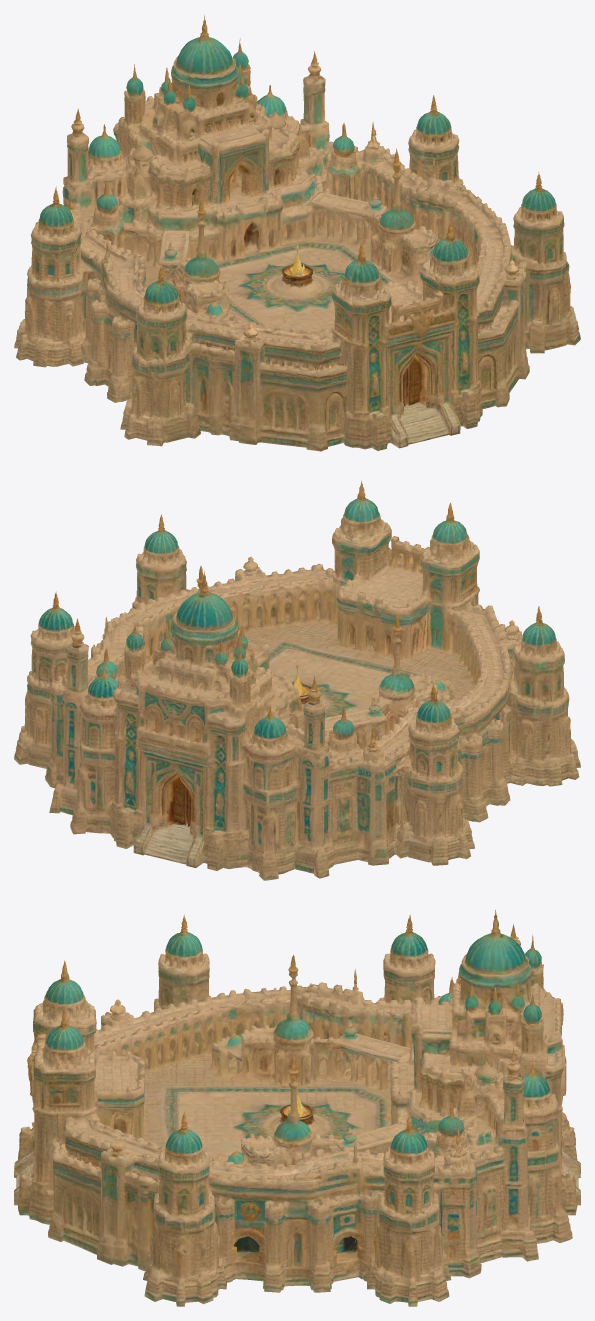
File: BalkhRoyalCity.glb
3 renders of one model, top to bottom at view 1: azimuth 30°, elevation 25°; view 2: azimuth 150°, elevation 25°; view 3: azimuth 270°, elevation 25°, orthographic. The views are drawn at different scales.
Bounding box in the file's own units: 1.87 × 1.04 × 1.9.
Materials: 1 (1 with a texture image).
